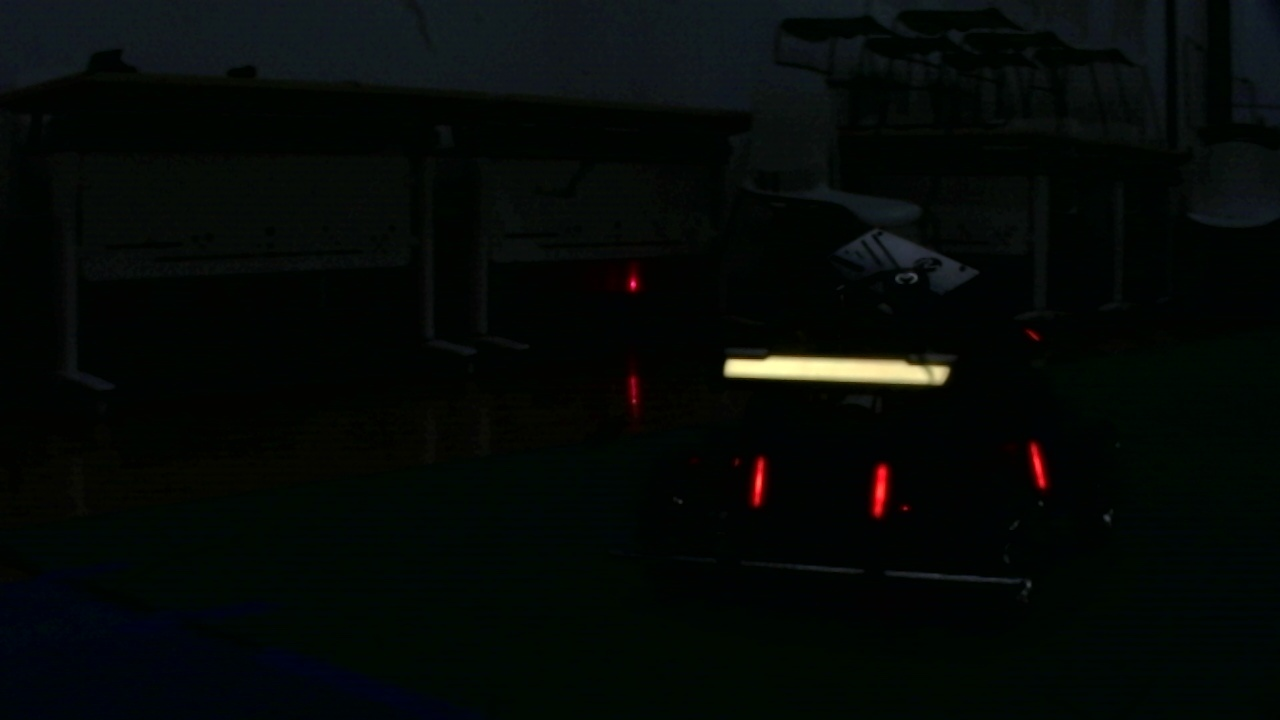lamp: (1029, 434, 1050, 497), (870, 458, 889, 521), (748, 460, 764, 508)
notpair1: (872, 437, 1049, 523)
pair1: (750, 456, 890, 523)
